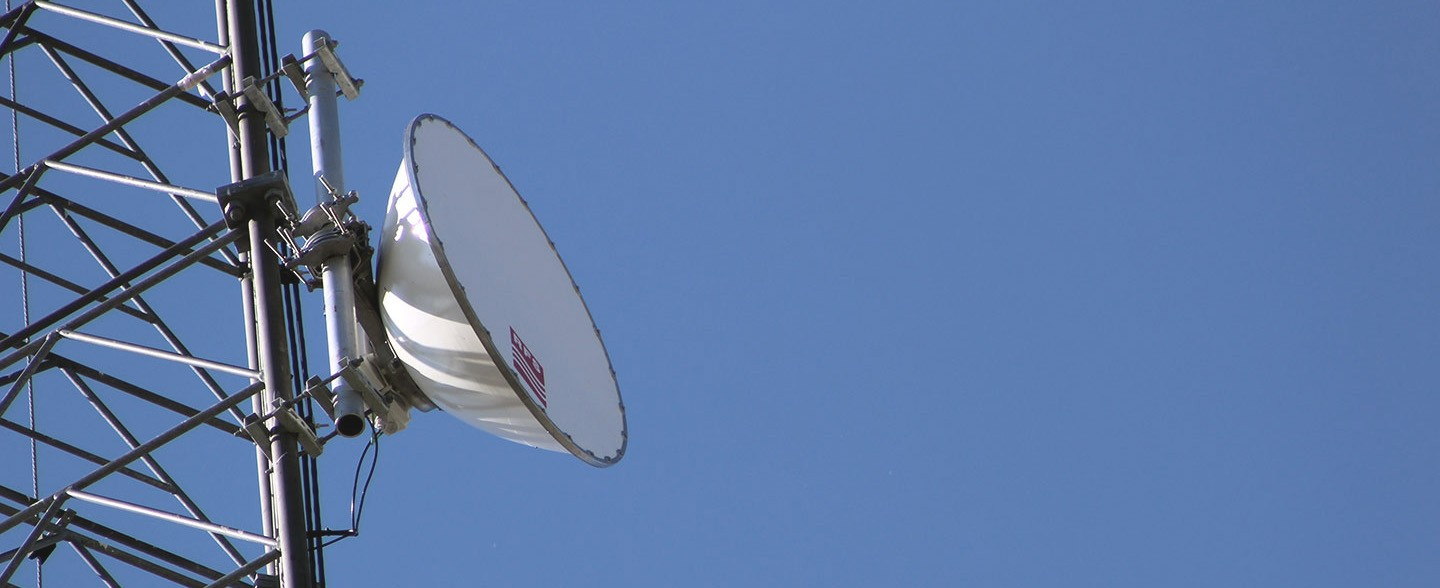ba: (365, 117, 647, 486)
